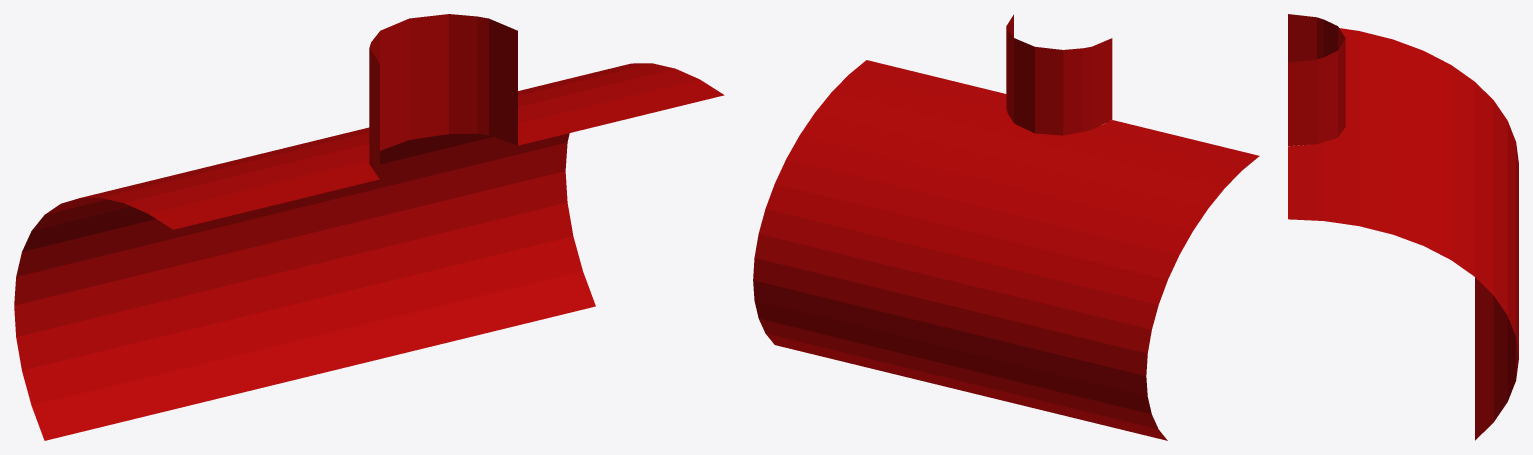
The model's file is c_t_pipe_exit_w.fbx.
The picture shows the model from 3 angles, left to right: view 1: azimuth 30°, elevation 25°; view 2: azimuth 150°, elevation 25°; view 3: azimuth 270°, elevation 25°; orthographic projection. The views are drawn at different scales.
Visible parts, largest first — view 1: coll_tunnel_pipe_exit_w; view 2: coll_tunnel_pipe_exit_w; view 3: coll_tunnel_pipe_exit_w.
Boxes of the visible parts, x1,y1,x2,y2 form: coll_tunnel_pipe_exit_w: (14, 14, 724, 440); coll_tunnel_pipe_exit_w: (753, 14, 1259, 440); coll_tunnel_pipe_exit_w: (1288, 14, 1518, 440).
Bounding box in the file's own units: 960 × 699 × 480.
